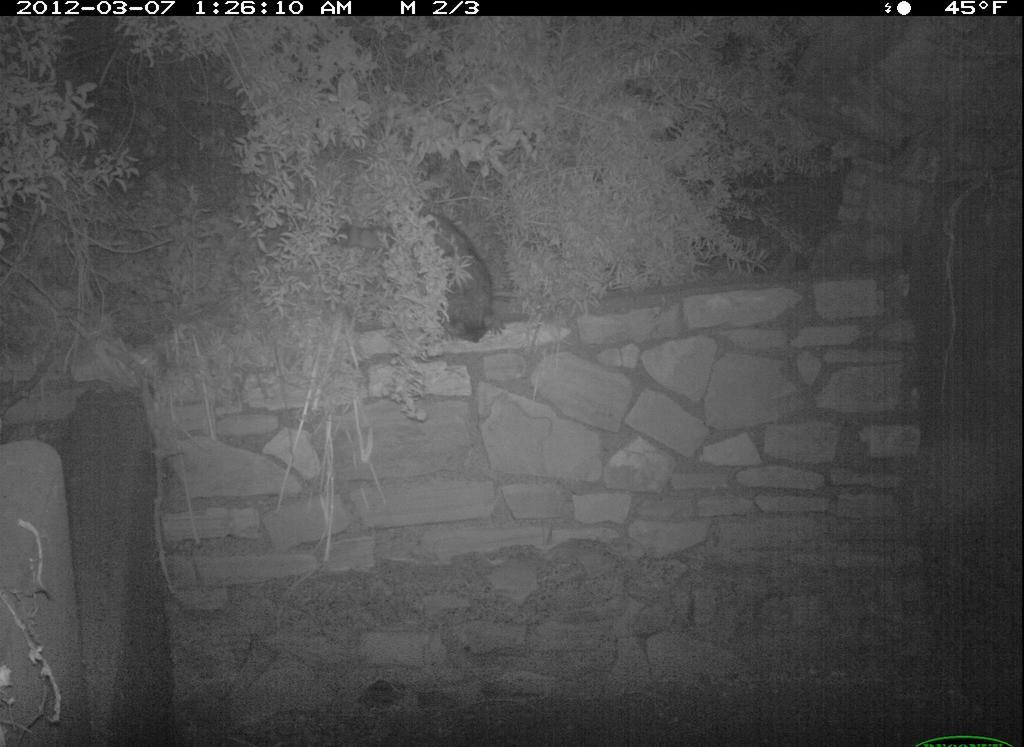raccoon: (340, 195, 505, 350)
